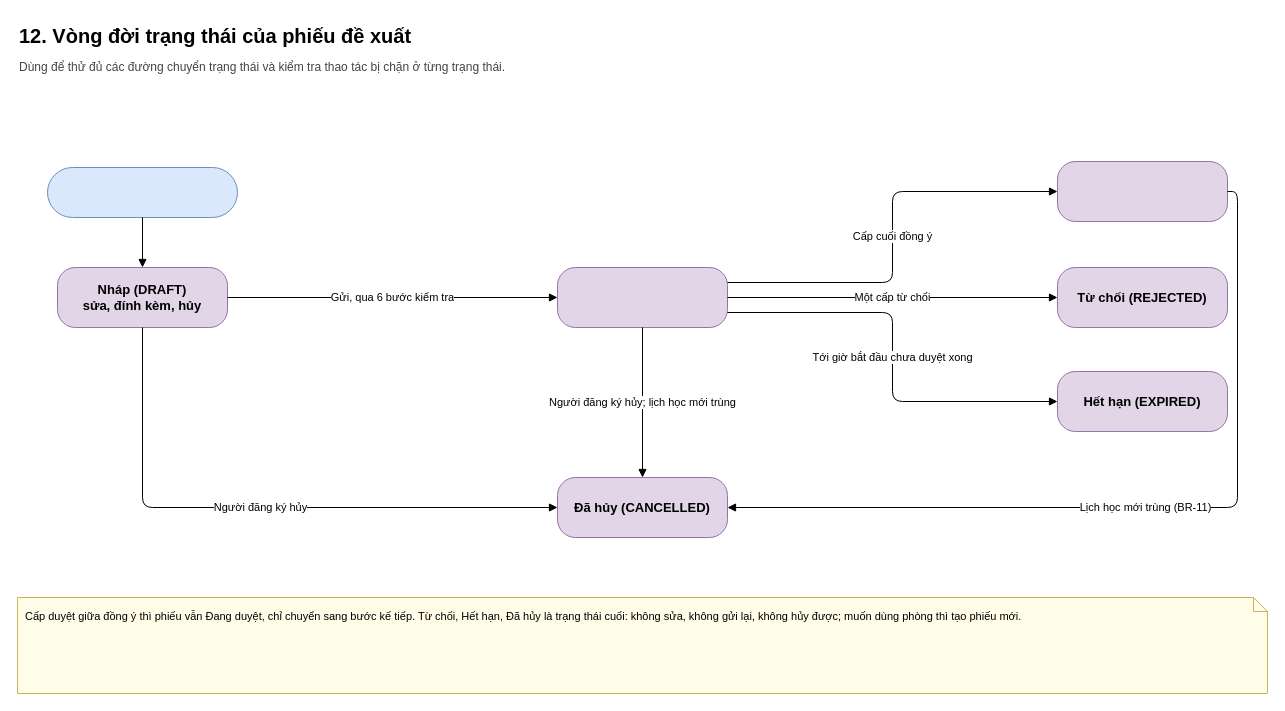
The diagram is 1285 pixels wide and 711 high, and some of its shapes have lost their labels. Each missing label, with the centre of its shape:
"Tạo yêu cầu" goes at [142,192].
"Đang duyệt (PENDING) hủy được" goes at [642,297].
"Đã duyệt (APPROVED) in phiếu, check-in, báo hỏng" goes at [1142,191].
